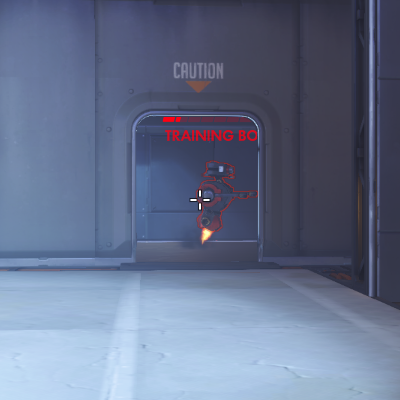hpbar: (162, 116, 252, 123)
